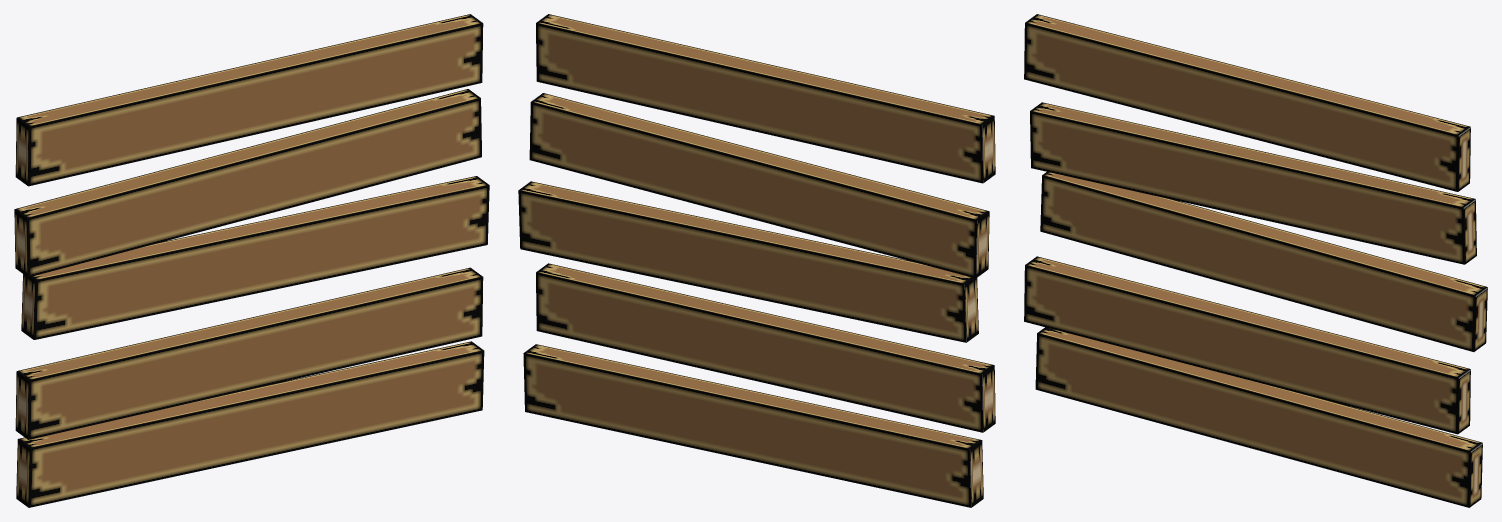
The model's file is deco_woodenFence_longBig.FBX.
The picture shows the model from 3 angles, left to right: view 1: azimuth 30°, elevation 25°; view 2: azimuth 150°, elevation 25°; view 3: azimuth 330°, elevation 25°; orthographic projection. The views are drawn at different scales.
Parts seen in each view (by area): view 1: deco_woodenFence_longBig; view 2: deco_woodenFence_longBig; view 3: deco_woodenFence_longBig.
Boxes of the visible parts, x1,y1,x2,y2 form: deco_woodenFence_longBig: [14, 14, 489, 507]; deco_woodenFence_longBig: [518, 14, 995, 507]; deco_woodenFence_longBig: [1024, 14, 1487, 507].
Bounding box in the file's own units: 4.11 × 3.37 × 0.2808.
1 material, 1 textured.
